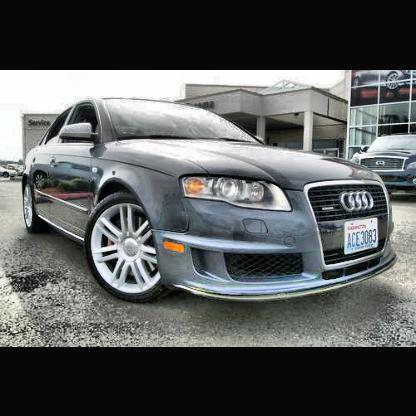Audi S4 Sedan 2007: (19, 98, 402, 306)
